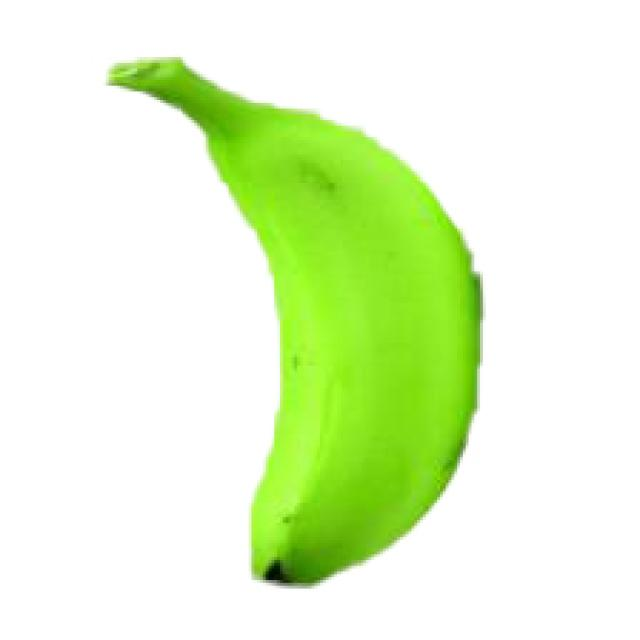fresh-banana: (103, 51, 483, 586)
